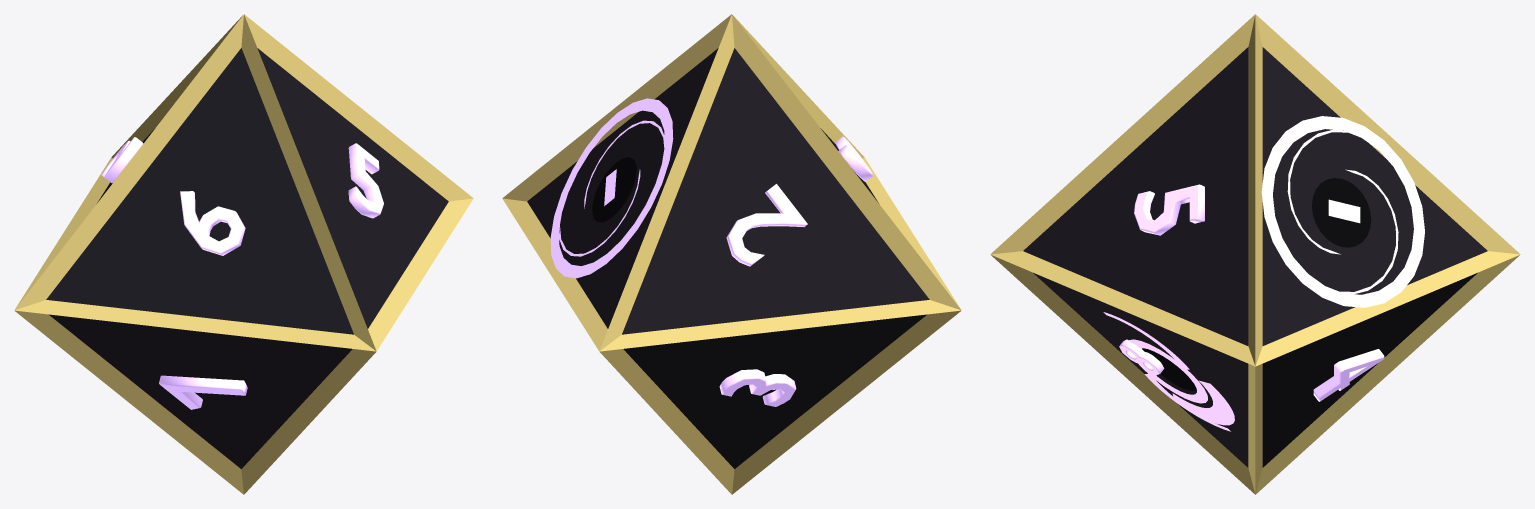
The model's file is d8_black_hole_gold.glb.
The picture shows the model from 3 angles, left to right: view 1: azimuth 30°, elevation 25°; view 2: azimuth 150°, elevation 25°; view 3: azimuth 270°, elevation 25°; orthographic projection.
Visible parts, largest first — view 1: D8_BlackHole_Gold; view 2: D8_BlackHole_Gold; view 3: D8_BlackHole_Gold.
Boxes of the visible parts, x1=… form: D8_BlackHole_Gold: x1=14, y1=14, x2=473, y2=494; D8_BlackHole_Gold: x1=502, y1=14, x2=961, y2=494; D8_BlackHole_Gold: x1=990, y1=14, x2=1520, y2=494.
Bounding box in the file's own units: 5 × 5 × 5.
